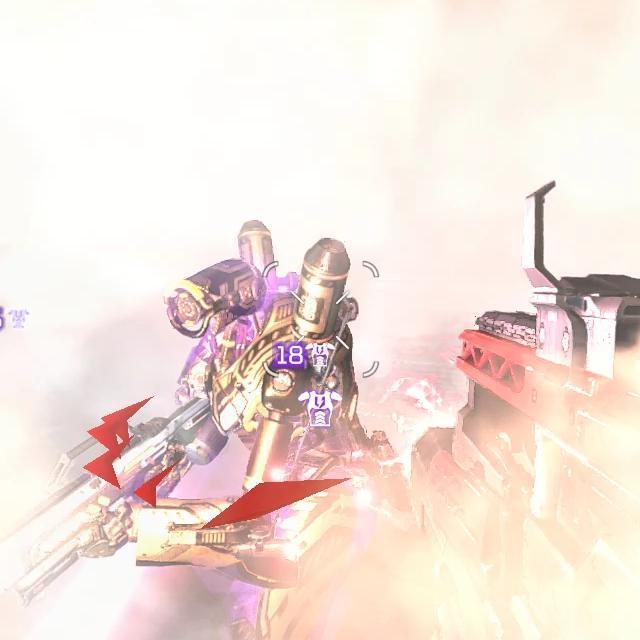avatar: (165, 254, 410, 640)
